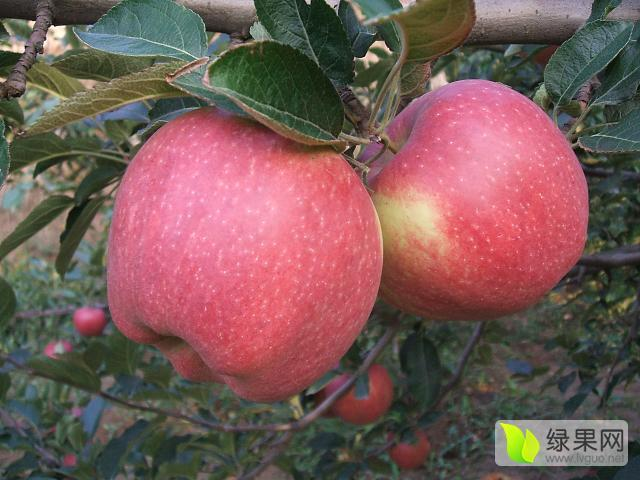apple: (103, 109, 384, 404), (361, 77, 587, 322)
